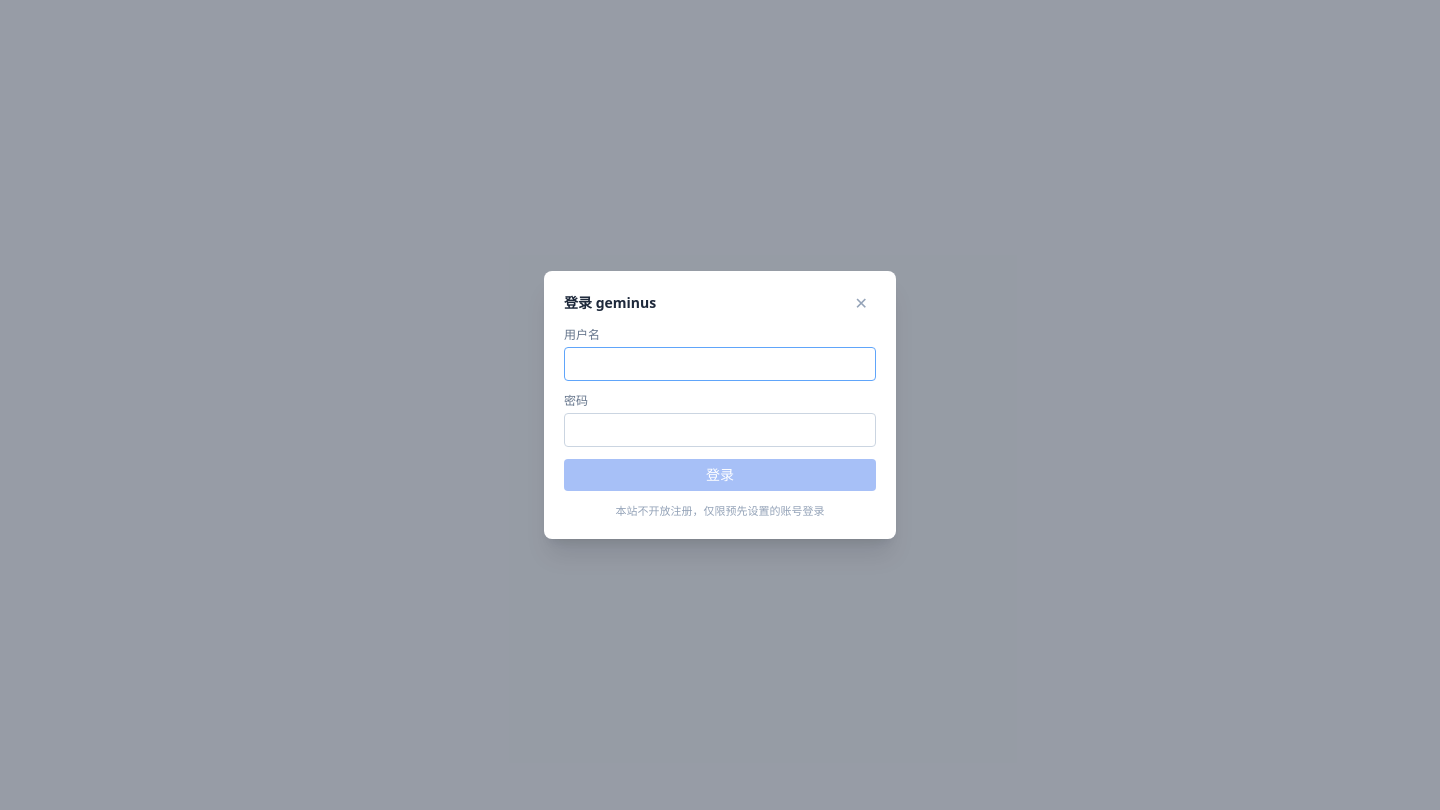
Scenario: LoginDialog（部署安全加固） › 登录失败 → 显示服务端错误文案
Type "alice" into the field with test id "login-username" at (720, 364), box x1=564 y1=347 x2=876 y2=381
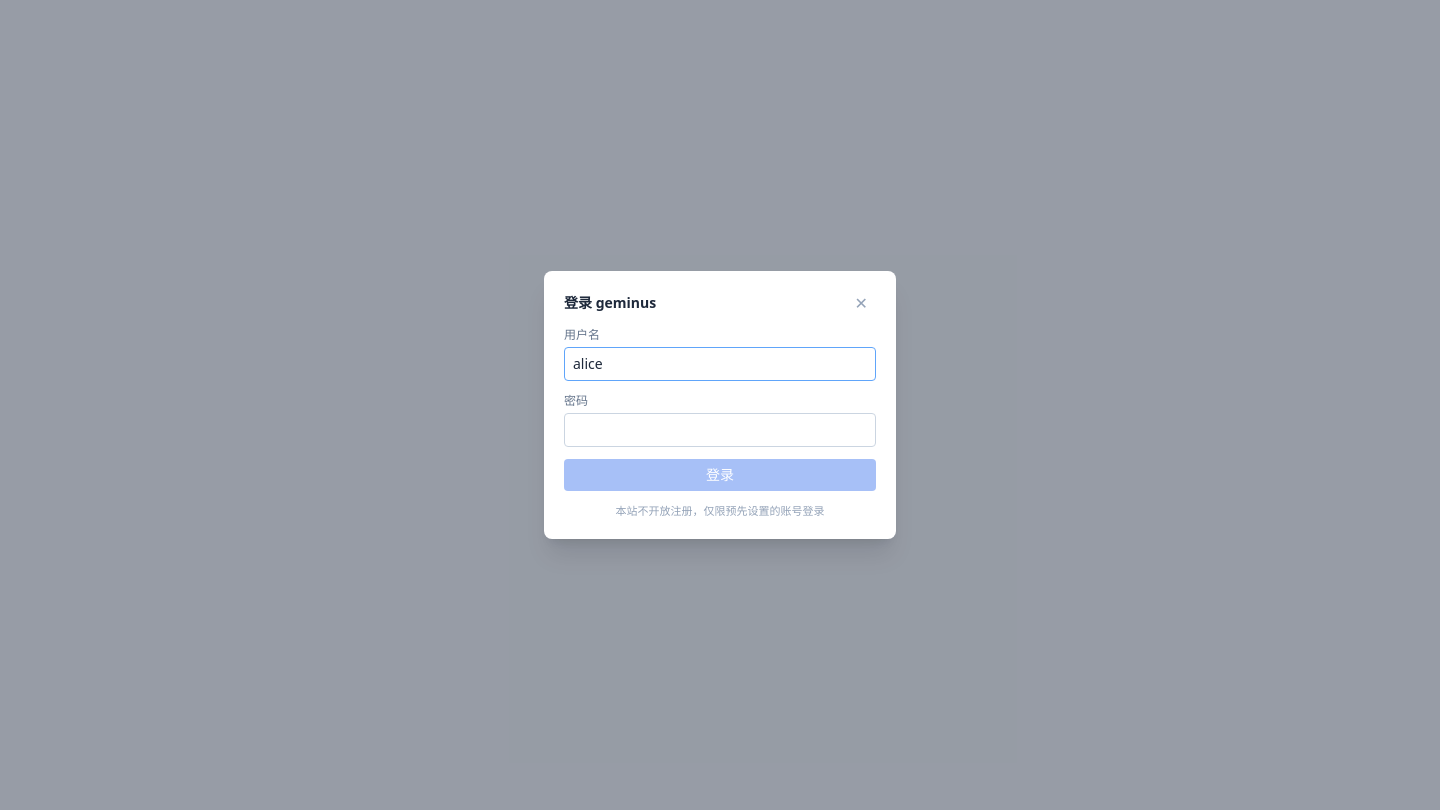
Type "bad" into the password field with test id "login-password" at (720, 430), box x1=564 y1=413 x2=876 y2=447
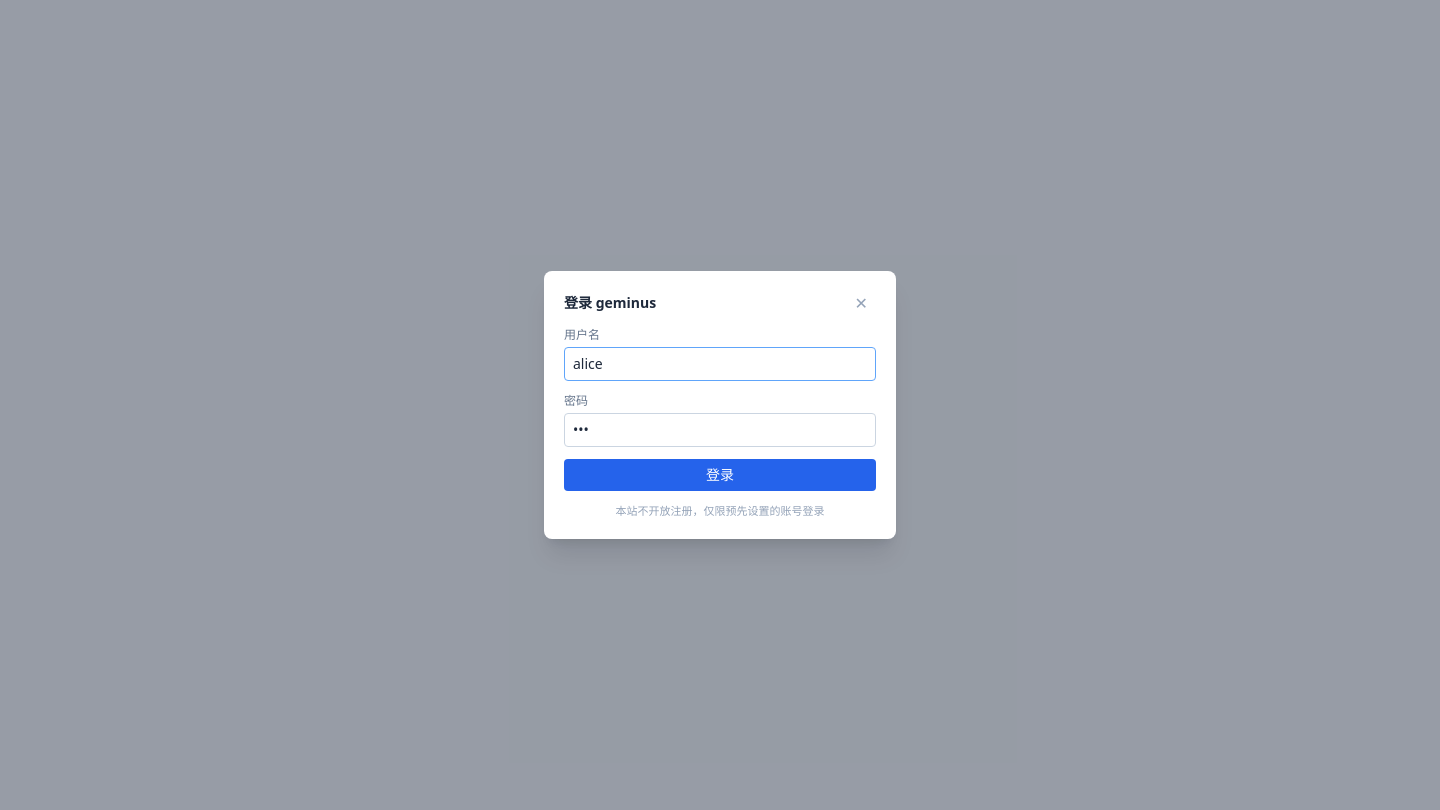
Click the button with test id "login-submit" at (720, 475), box x1=564 y1=459 x2=876 y2=491
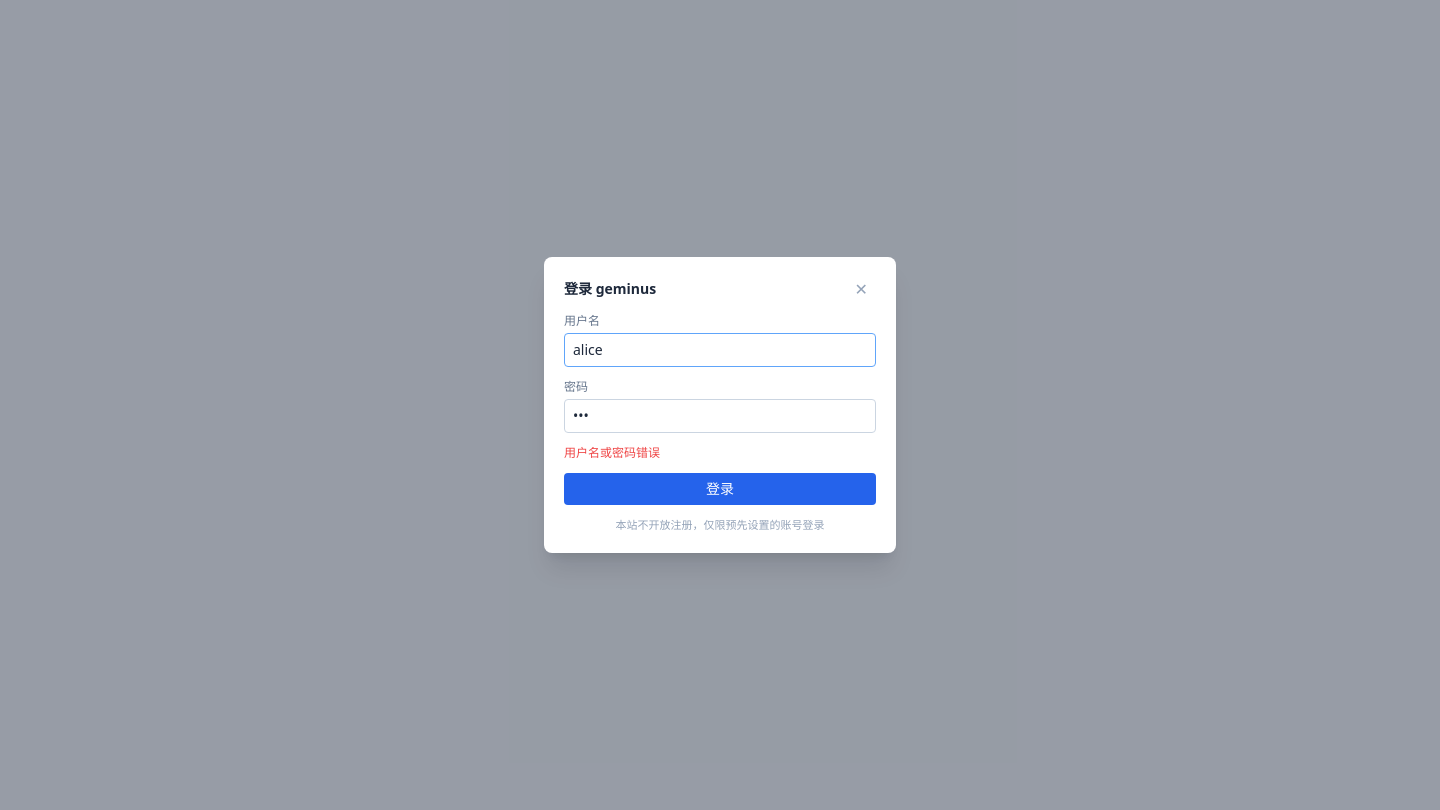
Expected: the text with test id "login-error" reads "用户名或密码错误", x1=564 y1=444 x2=660 y2=461
